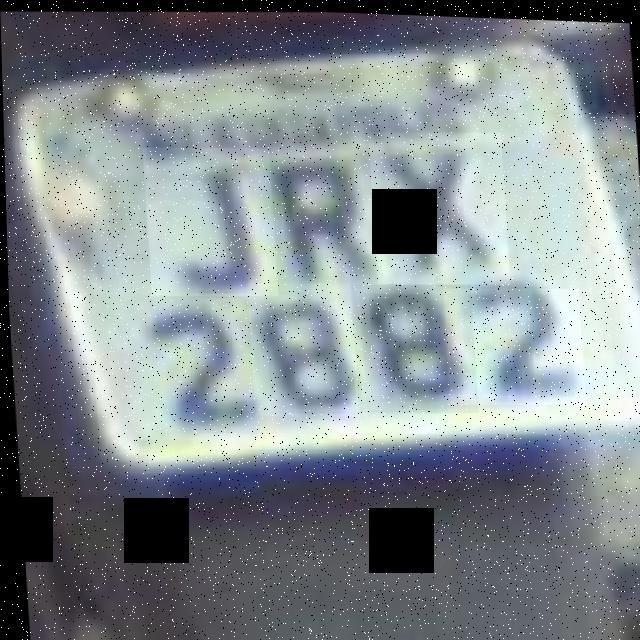2: (116, 269, 270, 443), (441, 280, 584, 405)
8: (349, 277, 476, 413), (244, 277, 364, 417)
J: (141, 142, 276, 298)
R: (269, 138, 385, 293)
X: (367, 124, 508, 285)
